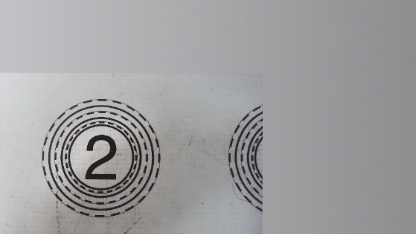2r: (38, 95, 161, 220)
